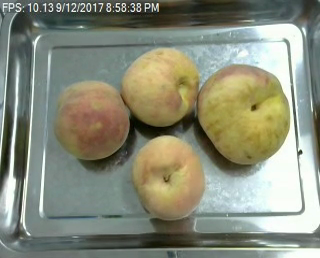Peach: (199, 63, 290, 165), (119, 45, 200, 128), (130, 135, 206, 219), (53, 79, 129, 161)
